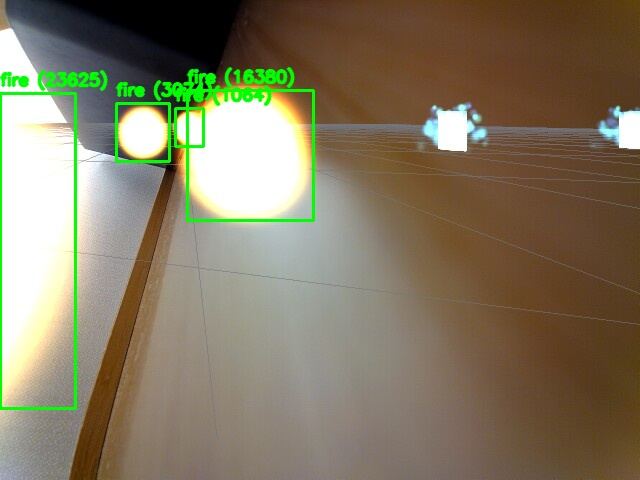fire: (0, 93, 75, 408), (187, 90, 313, 220), (116, 103, 169, 161), (175, 108, 203, 146)
